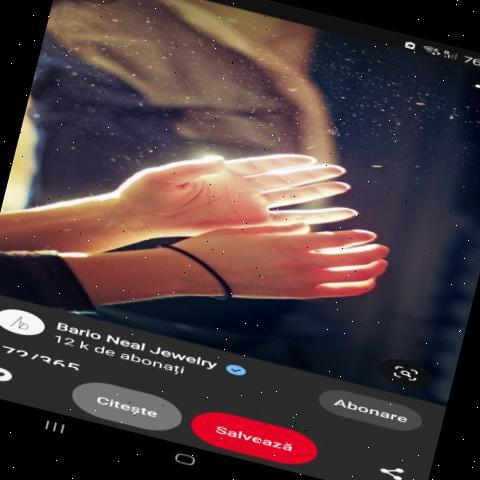Hands: (90, 77, 401, 228), (164, 210, 424, 317)
